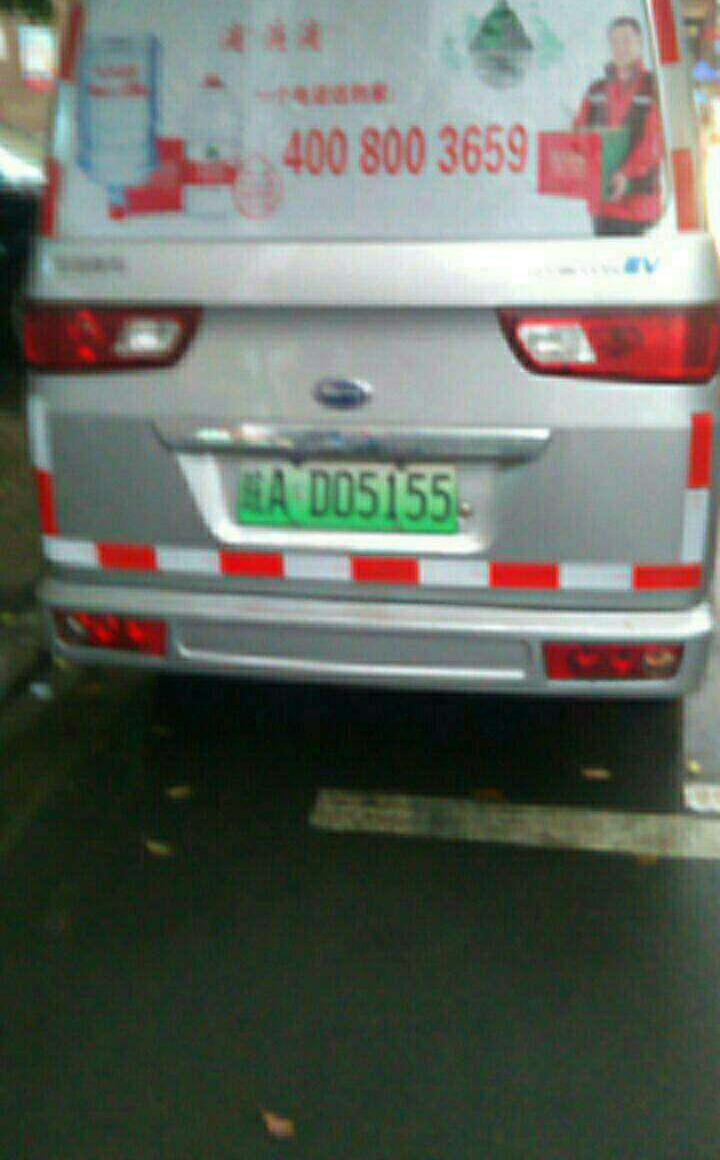car_id: (234, 460, 456, 529)
